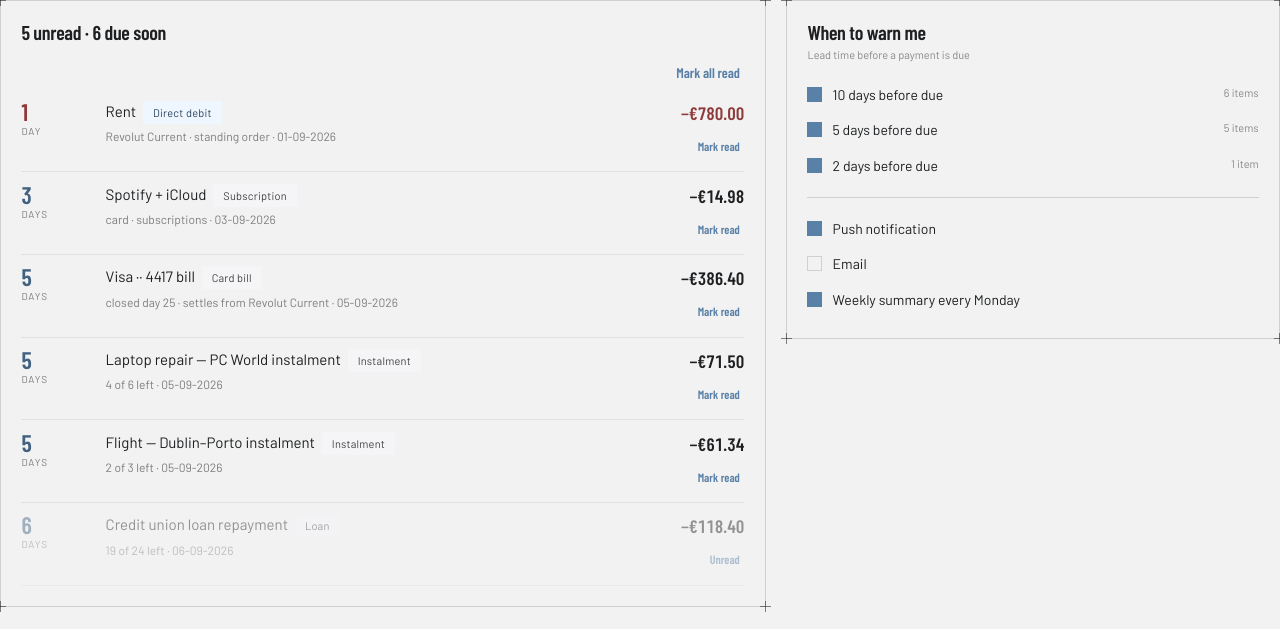
Scenario: NotificationsPage - read state › marks an item unread again
Click the button with aria-label "Mark Credit union loan repayment as unread" at (725, 559), box left=705, top=544, right=744, bottom=574
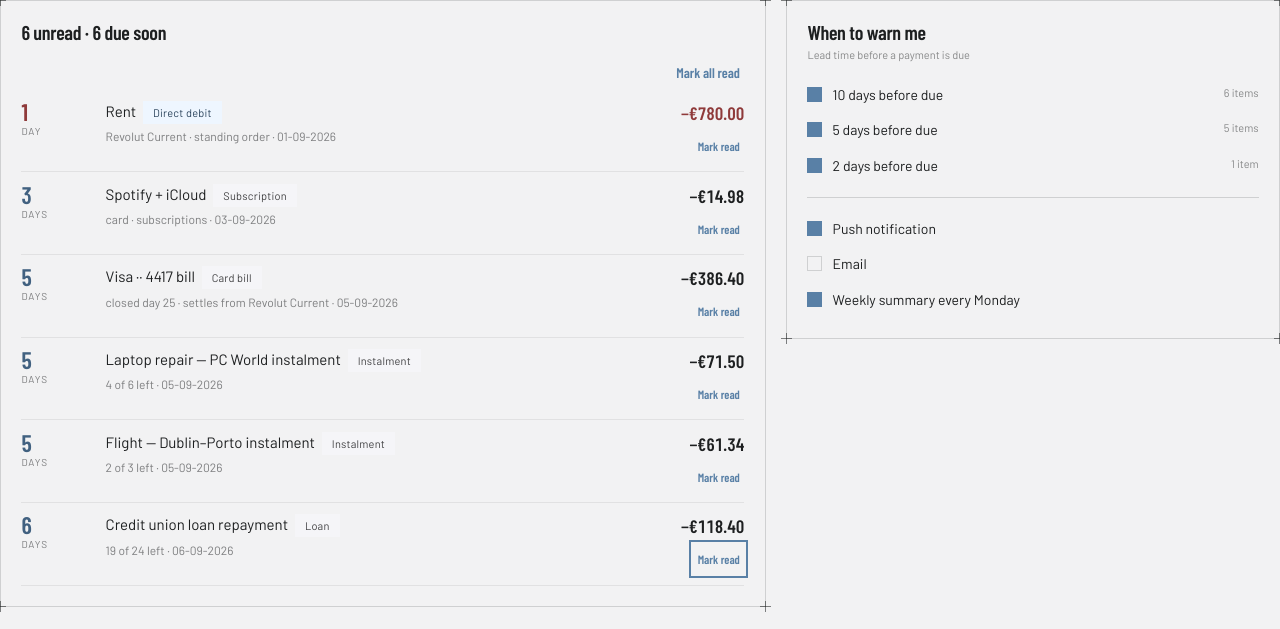
Expected: the button with aria-label "Mark Credit union loan repayment as read" is shown, left=693, top=544, right=744, bottom=574
